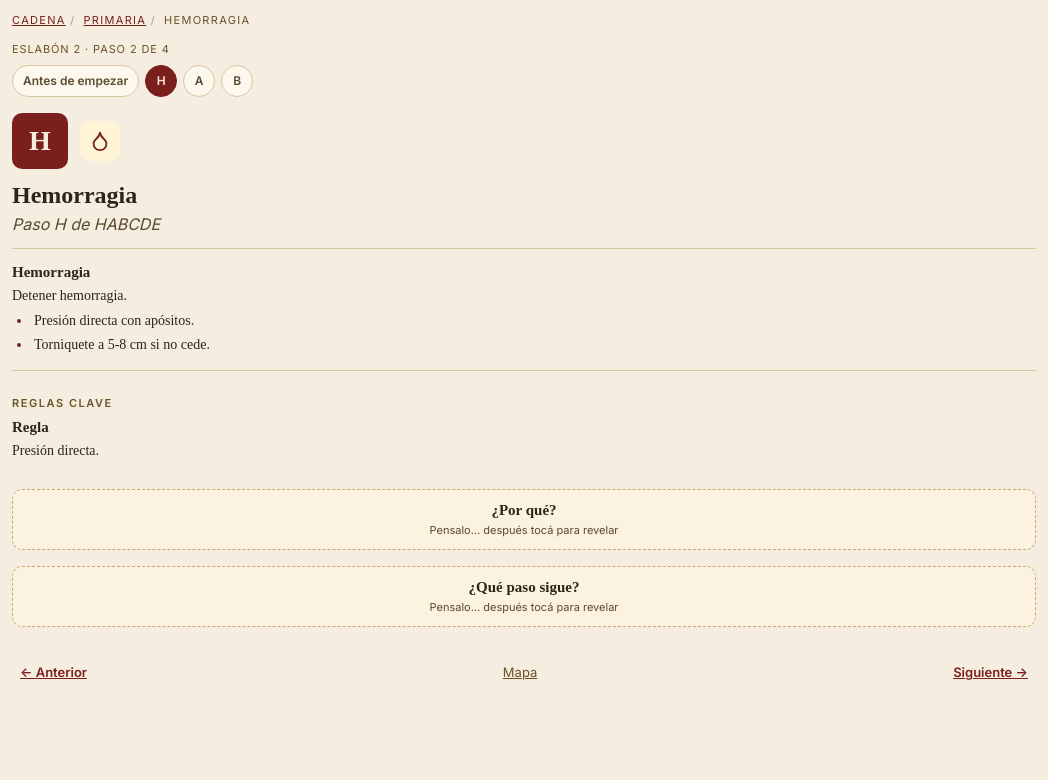
it: NodeDetail › shows the node title and its item detail; rationale is hidden until revealed
This screenshot has width=1048, height=780.
Expected: the heading "Hemorragia" is shown, [12,182,137,208]
Expected: the text "Detener hemorragia." is shown, [12,288,127,303]
Click the button with aria-label "Revelar: ¿Por qué?" at (524, 520), box [12,489,1036,550]
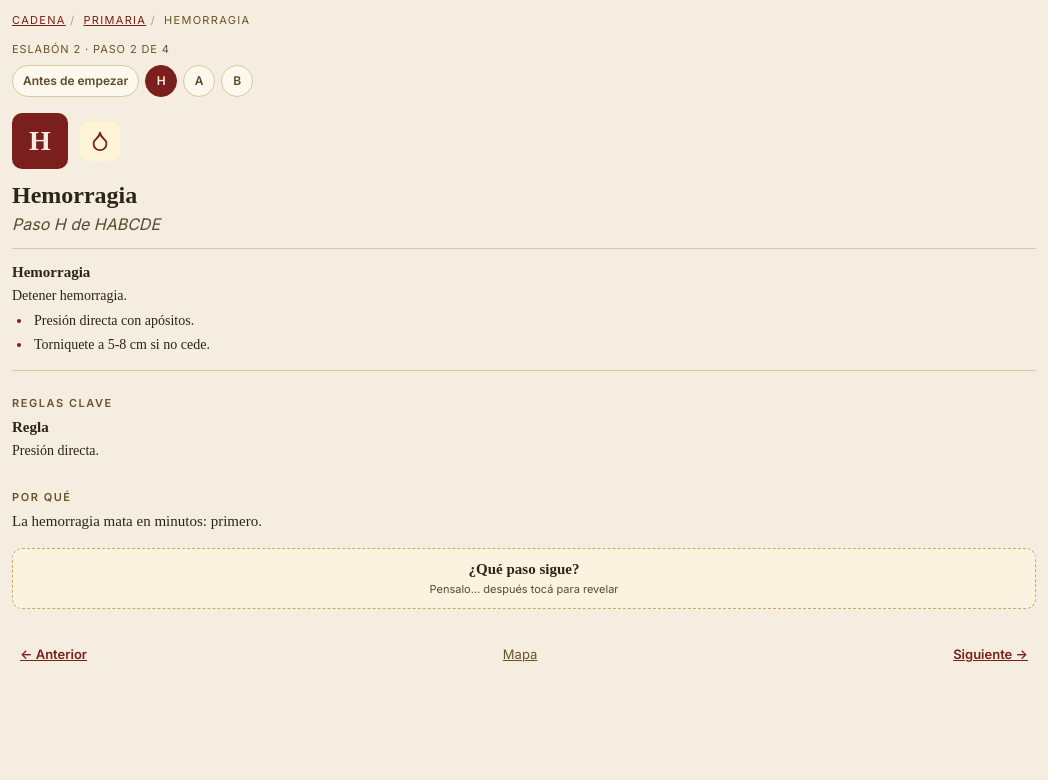
Expected: the text "La hemorragia mata en minutos: primero." is shown, [12,513,262,529]
